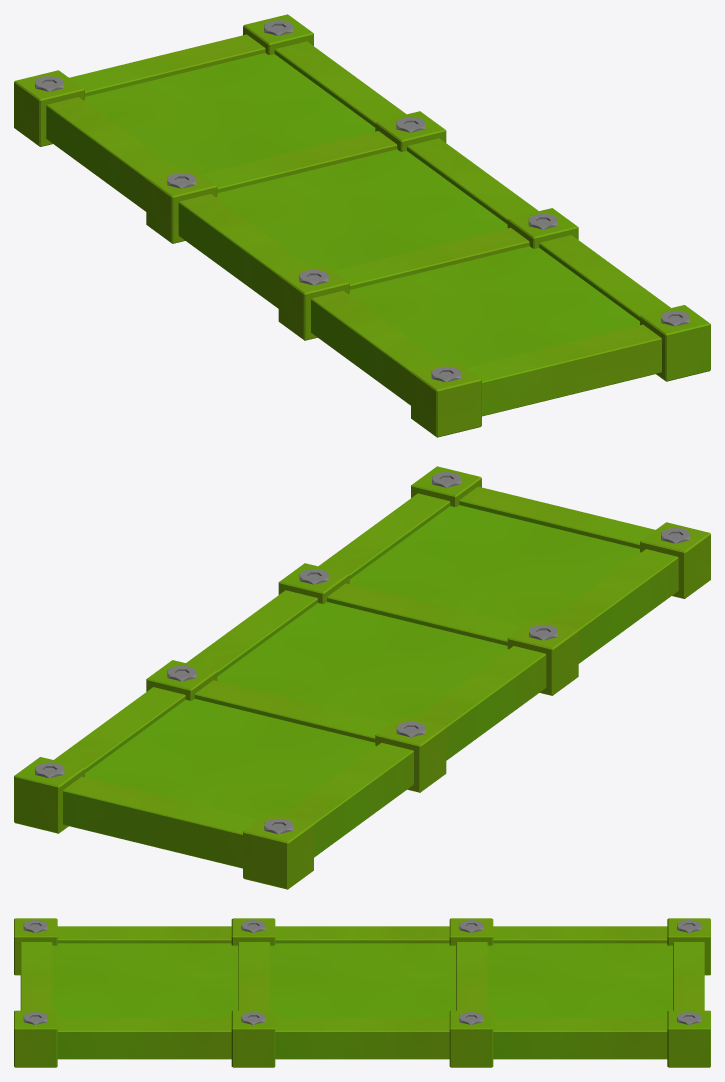
Rendered from FramedSquareTripleGreen.fbx.
The picture shows the model from 3 angles, top to bottom: view 1: azimuth 30°, elevation 25°; view 2: azimuth 150°, elevation 25°; view 3: azimuth 270°, elevation 25°; orthographic projection. The views are drawn at different scales.
Parts seen in each view (by area): view 1: Cube, Cube.001; view 2: Cube, Cube.001; view 3: Cube, Cube.001.
Part boxes in pixels (<box>): Cube: <box>14,14,710,437</box>; Cube.001: <box>35,20,689,382</box>; Cube: <box>14,466,710,889</box>; Cube.001: <box>35,472,690,834</box>; Cube: <box>14,918,710,1067</box>; Cube.001: <box>23,920,700,1024</box>.
Bounding box in the file's own units: 6 × 1.05 × 16.
